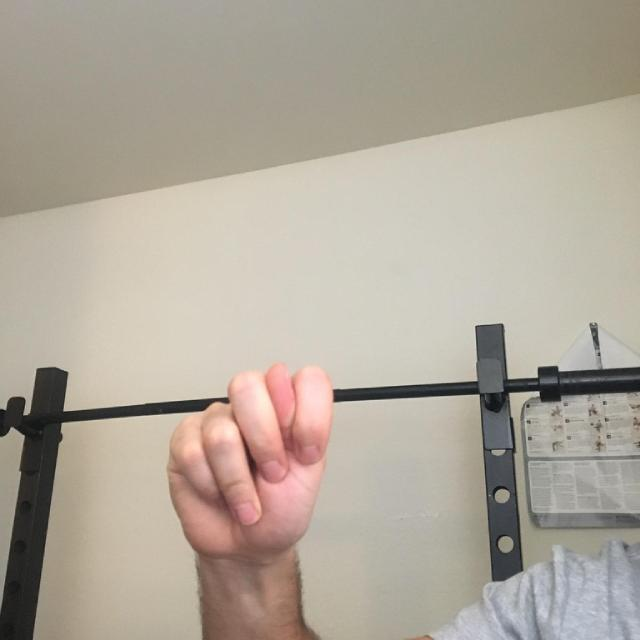T: (124, 319, 408, 616)
